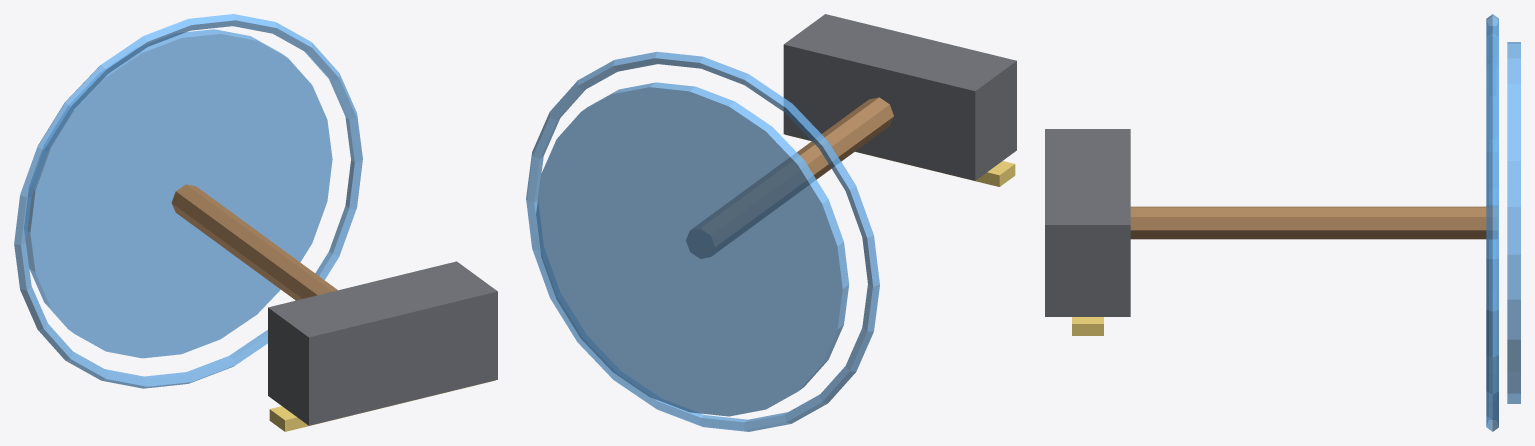
Rendered from weapon_pickup_warhammer_rare.glb.
3 views of the same model, side by side, from view 1: azimuth 30°, elevation 25°; view 2: azimuth 150°, elevation 25°; view 3: azimuth 270°, elevation 25° (orthographic). The views are drawn at different scales.
Parts seen in each view (by area): view 1: rarity_base_disc, hammer_head, rarity_orbit_ring, handle, gold_band; view 2: rarity_base_disc, hammer_head, rarity_orbit_ring, handle, gold_band; view 3: hammer_head, handle, rarity_orbit_ring, rarity_base_disc, gold_band.
Boxes of the visible parts, x1,y1,x2,y2 form: rarity_base_disc: (24,29,332,358); hammer_head: (268,261,497,425); rarity_orbit_ring: (14,14,362,388); handle: (171,184,337,300); gold_band: (269,380,495,431); rarity_base_disc: (536,82,849,416); hammer_head: (783,14,1016,180); rarity_orbit_ring: (526,51,879,431); handle: (686,97,893,258); gold_band: (785,134,1015,186); hammer_head: (1045,129,1130,316); handle: (1130,206,1497,239); rarity_orbit_ring: (1486,14,1498,431); rarity_base_disc: (1507,42,1520,403); gold_band: (1072,317,1103,335).
Size of the model in its own units: 1.57 by 1.57 by 1.78.
